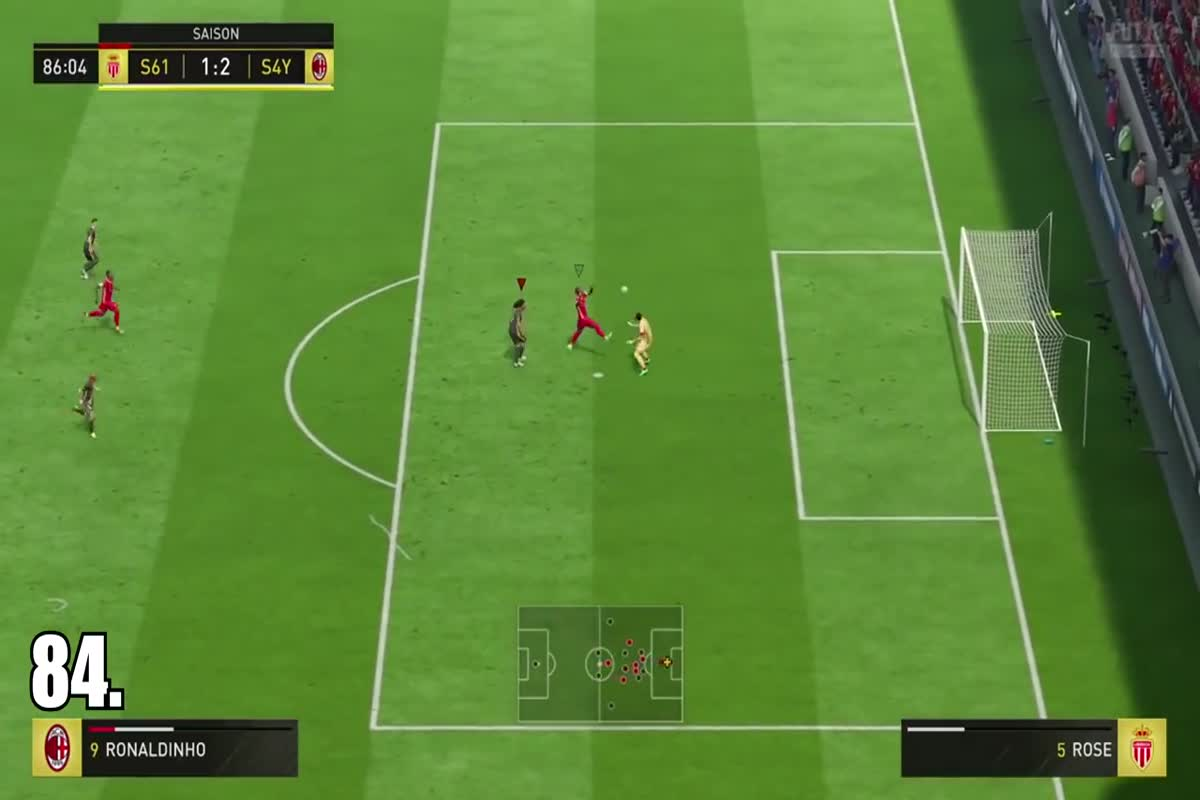ball: (615, 272, 640, 299)
